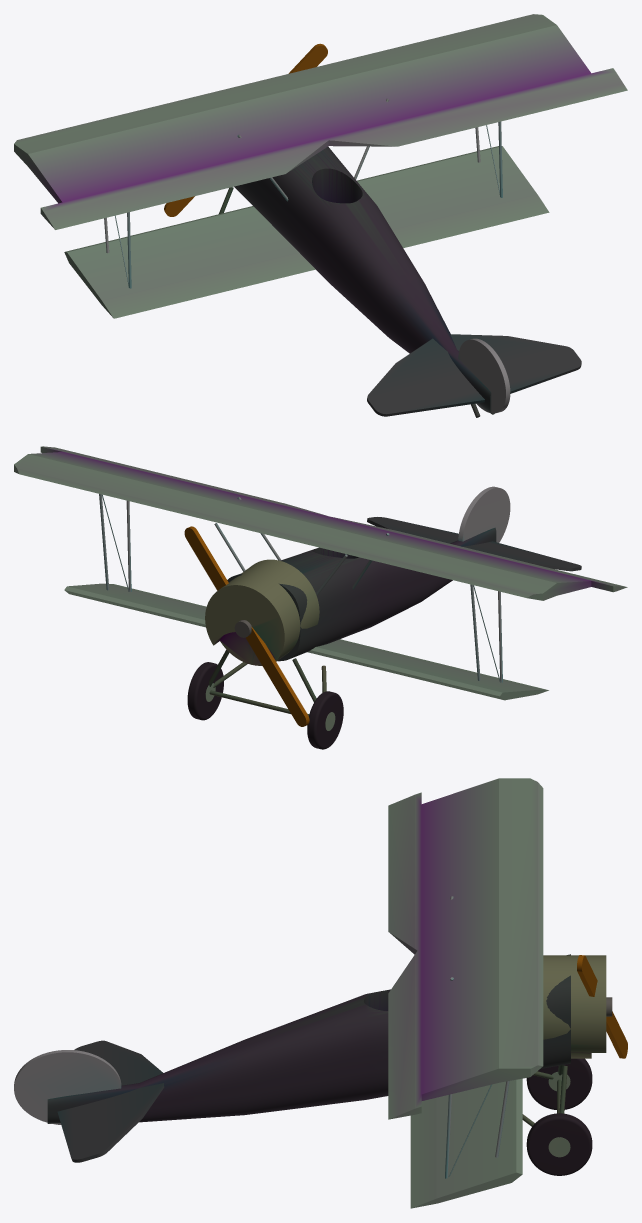
3 renders of one model, top to bottom at view 1: azimuth 30°, elevation 25°; view 2: azimuth 150°, elevation 25°; view 3: azimuth 270°, elevation 25°, orthographic. The views are drawn at different scales.
Visible parts, largest first — view 1: upper_airfoil, lower_airfoil, body, tailplane, fin, blades; view 2: upper_airfoil, body, cowl, lower_airfoil, blades, tailplane, fin, tyre.001, tyre; view 3: upper_airfoil, body, lower_airfoil, tailplane, cowl, fin, tyre, tyre.001, blades.
Boxes of the visible parts, x1,y1,x2,y2 form: upper_airfoil: (14, 14, 627, 229); lower_airfoil: (64, 146, 549, 318); body: (234, 146, 494, 414); tailplane: (367, 334, 581, 416); fin: (458, 338, 510, 413); blades: (164, 43, 327, 216); upper_airfoil: (14, 446, 627, 600); body: (227, 527, 496, 661); cowl: (205, 559, 319, 665); lower_airfoil: (64, 583, 548, 700); blades: (184, 526, 309, 726); tailplane: (367, 517, 581, 571); fin: (458, 486, 510, 542); tyre.001: (307, 691, 343, 749); tyre: (187, 662, 223, 720); upper_airfoil: (388, 778, 543, 1119); body: (47, 954, 570, 1123); lower_airfoil: (410, 1078, 522, 1208); tailplane: (57, 1040, 164, 1162); cowl: (543, 955, 606, 1058); fin: (14, 1050, 121, 1124); tyre: (526, 1113, 592, 1175); tyre.001: (526, 1058, 592, 1109); blades: (577, 955, 627, 1058).
Bounding box in the file's own units: 9.2 × 3.01 × 7.6.
